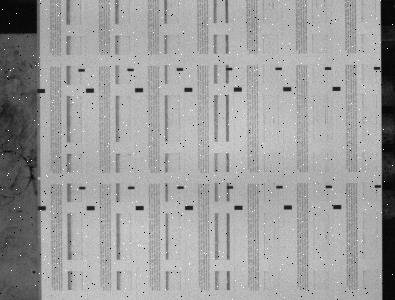qblock: (185, 205, 194, 210), (284, 205, 293, 210), (234, 205, 243, 210), (184, 87, 193, 92), (37, 88, 45, 93), (136, 205, 144, 210), (86, 88, 94, 93), (234, 87, 242, 92), (333, 86, 341, 91), (135, 88, 144, 92), (87, 206, 95, 210), (334, 205, 342, 209), (38, 206, 46, 210), (284, 87, 292, 91)
smallqblock: (374, 66, 381, 70), (78, 68, 85, 72), (226, 67, 233, 71), (227, 185, 234, 189), (326, 185, 333, 188), (177, 186, 184, 189), (128, 186, 135, 189), (276, 185, 283, 188), (79, 186, 86, 189), (276, 67, 283, 70), (375, 185, 382, 188), (325, 67, 332, 70), (127, 68, 134, 71), (177, 68, 184, 71)
